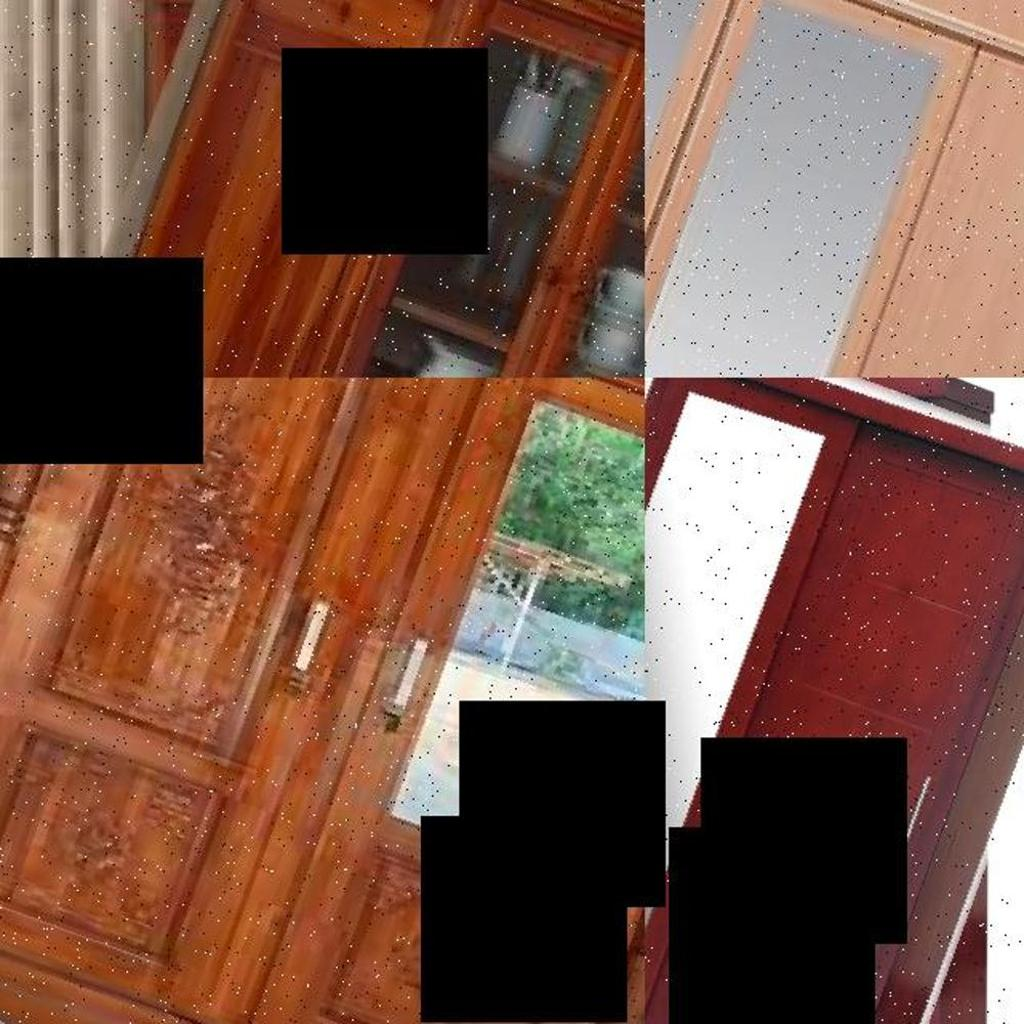cabinet: (0, 378, 645, 1024), (645, 378, 1024, 1024), (645, 0, 1024, 378)
